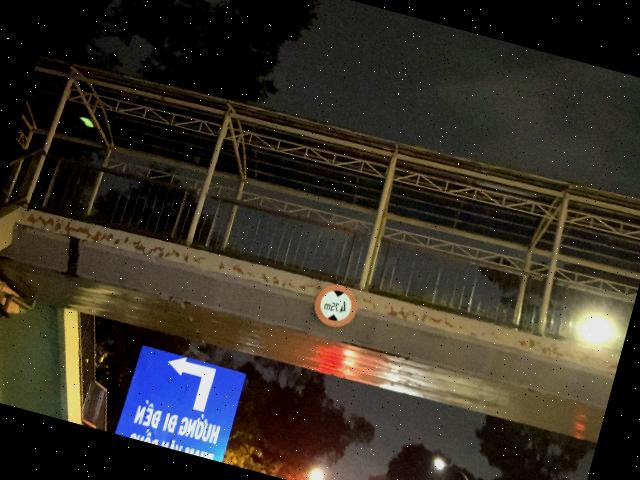han-che-chieu-cao: (310, 280, 362, 332)
